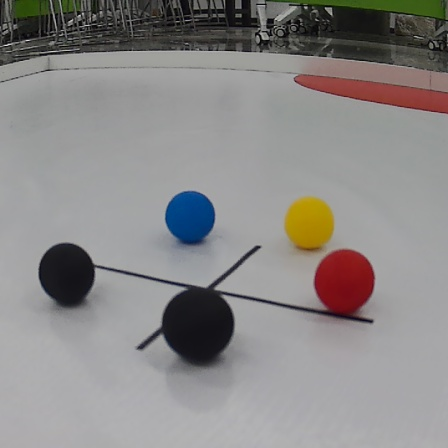black: (163, 285, 248, 368), (36, 240, 99, 308)
blue: (162, 189, 216, 247)
red: (313, 248, 375, 314)
red_base: (295, 60, 447, 113)
yellow: (283, 194, 335, 250)
